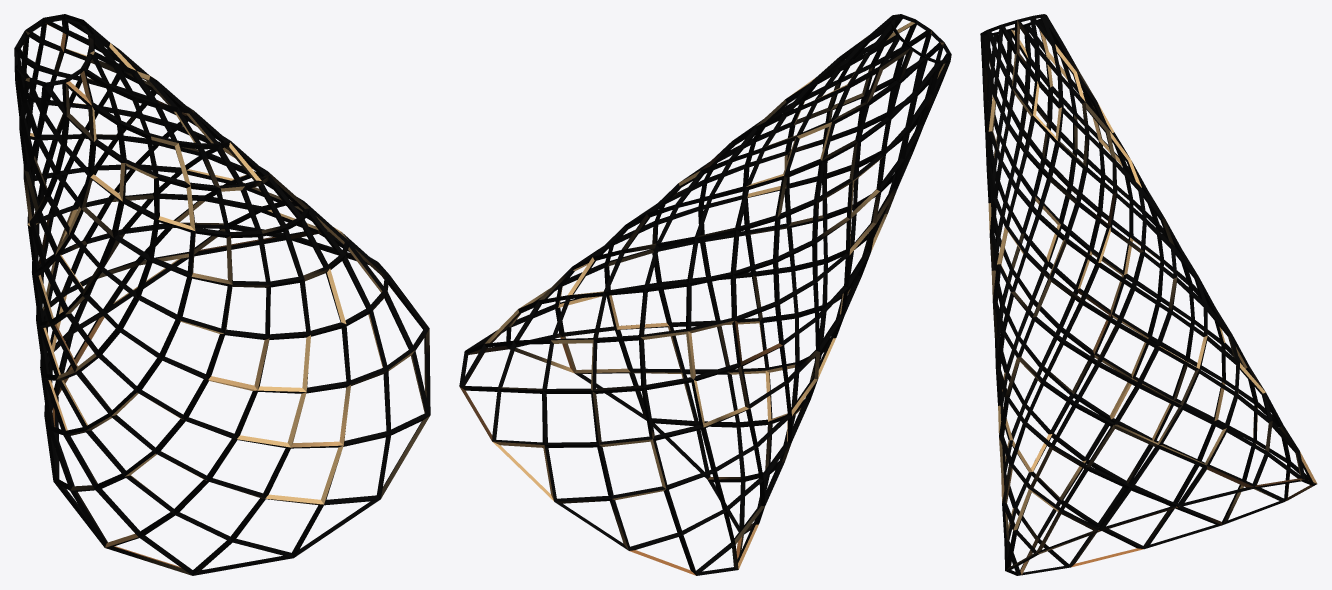
3 renders of one model, left to right at view 1: azimuth 30°, elevation 25°; view 2: azimuth 150°, elevation 25°; view 3: azimuth 270°, elevation 25°, orthographic. The views are drawn at different scales.
Parts seen in each view (by area): view 1: Cylinder.416; view 2: Cylinder.416; view 3: Cylinder.416.
Boxes of the visible parts, left/top/right/bottom form: Cylinder.416: left=14, top=14, right=430, bottom=575; Cylinder.416: left=459, top=14, right=951, bottom=575; Cylinder.416: left=980, top=14, right=1317, bottom=575.
Size of the model in its own units: 1.42 by 1.82 by 1.13.
Materials: 1 (1 with a texture image).
